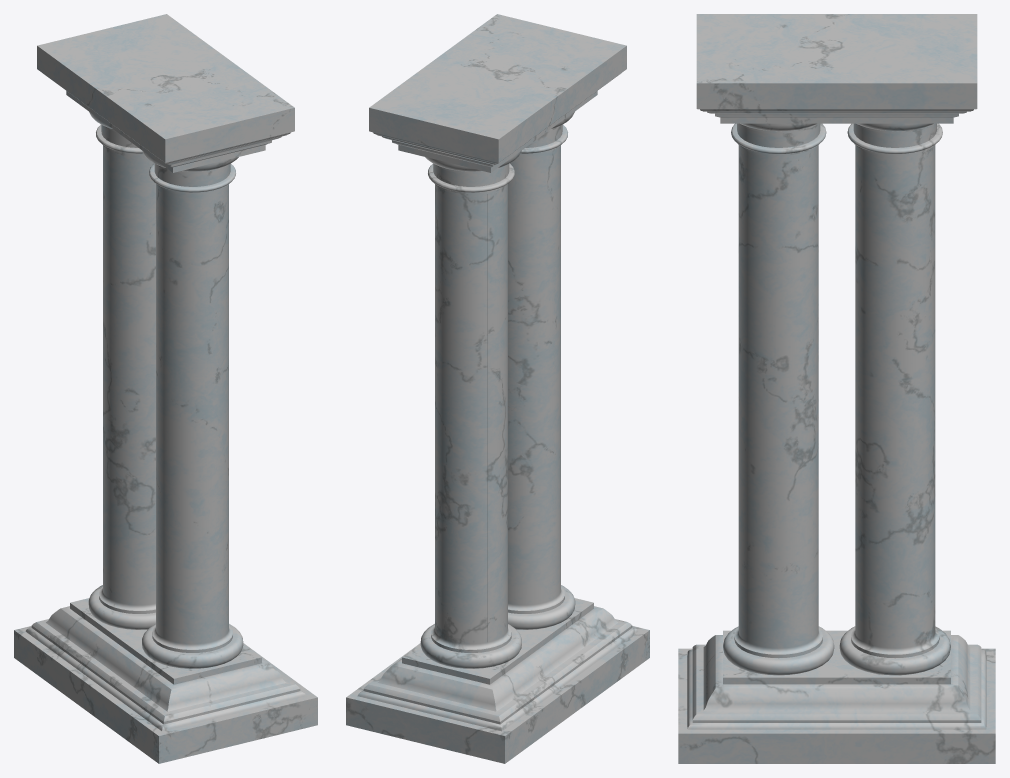
Rendered from columna1.glb.
3 renders of one model, left to right at view 1: azimuth 30°, elevation 25°; view 2: azimuth 150°, elevation 25°; view 3: azimuth 270°, elevation 25°, orthographic. The views are drawn at different scales.
Visible parts, largest first — view 1: CC2; view 2: CC2; view 3: CC2.
Boxes of the visible parts, x1=… form: CC2: x1=14, y1=14, x2=317, y2=763; CC2: x1=346, y1=14, x2=649, y2=763; CC2: x1=678, y1=14, x2=995, y2=763.
Bounding box in the file's own units: 0.926 × 3.42 × 1.46.
1 material, 1 textured.
